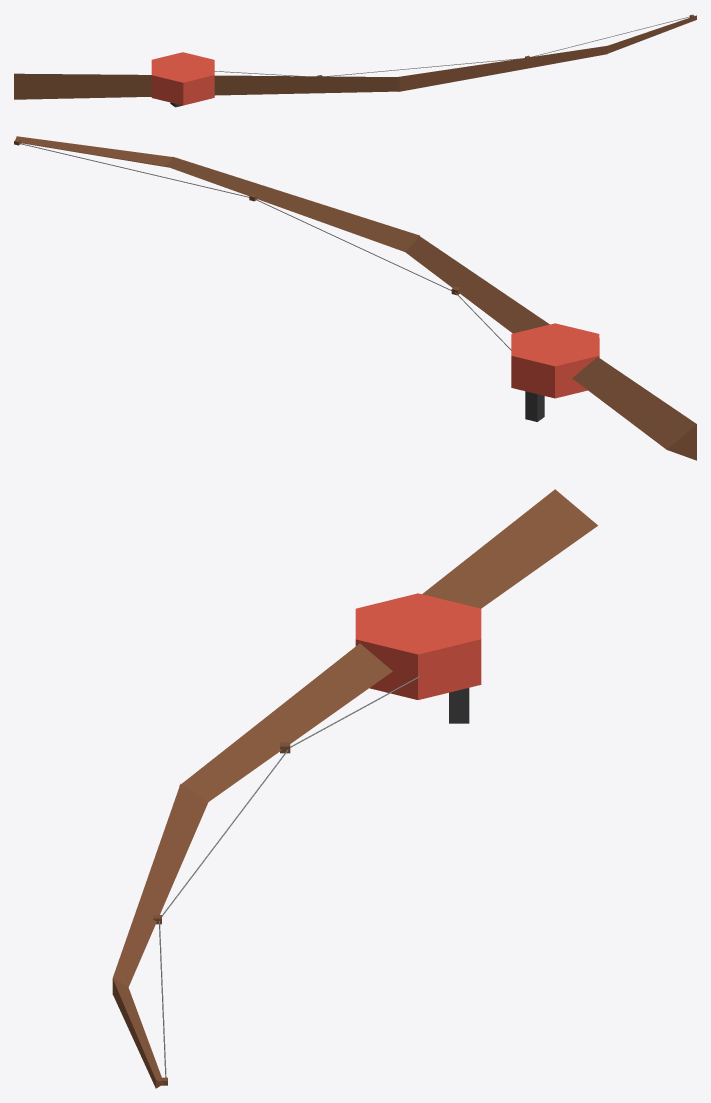
File: cañaPescar.fbx
The picture shows the model from 3 angles, top to bottom: view 1: azimuth 30°, elevation 25°; view 2: azimuth 150°, elevation 25°; view 3: azimuth 270°, elevation 25°; orthographic projection. The views are drawn at different scales.
Parts seen in each view (by area): view 1: Object.1, Object.2, Object.7, Object.8; view 2: Object.1, Object.2, Object.3; view 3: Object.1, Object.2.
Boxes of the visible parts, bbox=[...] form: Object.1: bbox=[14, 15, 696, 99]; Object.2: bbox=[151, 52, 214, 105]; Object.7: bbox=[214, 58, 523, 76]; Object.8: bbox=[531, 16, 689, 56]; Object.1: bbox=[15, 136, 696, 460]; Object.2: bbox=[511, 323, 599, 398]; Object.3: bbox=[525, 391, 544, 421]; Object.1: bbox=[112, 489, 597, 1088]; Object.2: bbox=[355, 593, 481, 699].
Size of the model in its own units: 16105 by 1247 by 5810.
